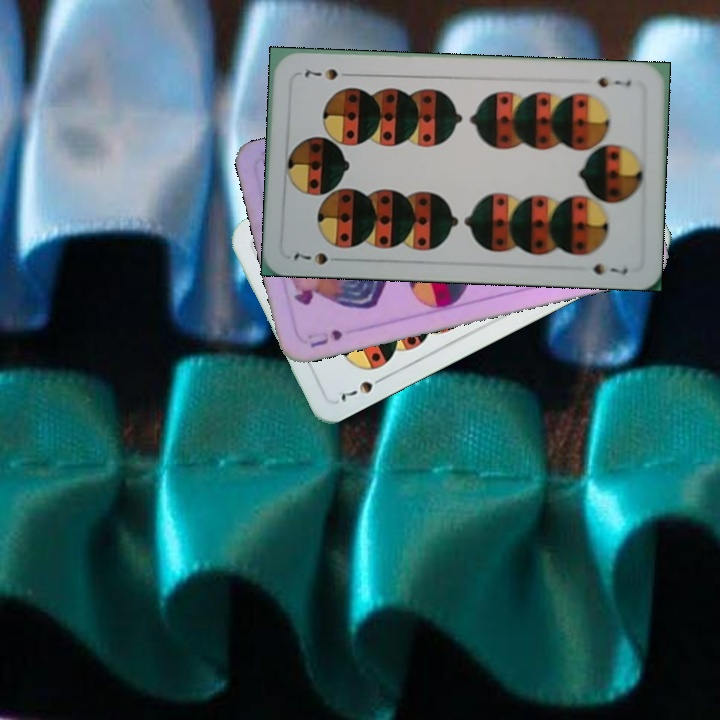S7: (336, 371, 389, 405), (289, 248, 346, 267), (594, 73, 634, 90)
SU: (303, 325, 345, 350)
